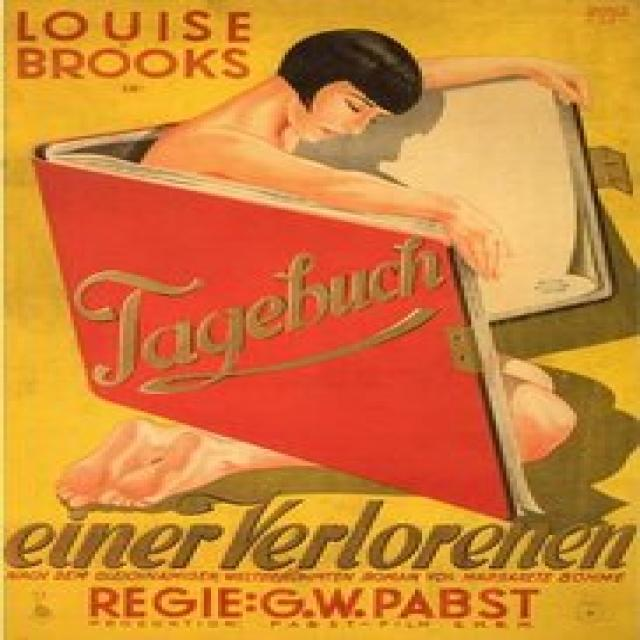movie-judul: (69, 234, 464, 400)
picture: (138, 28, 522, 209)
